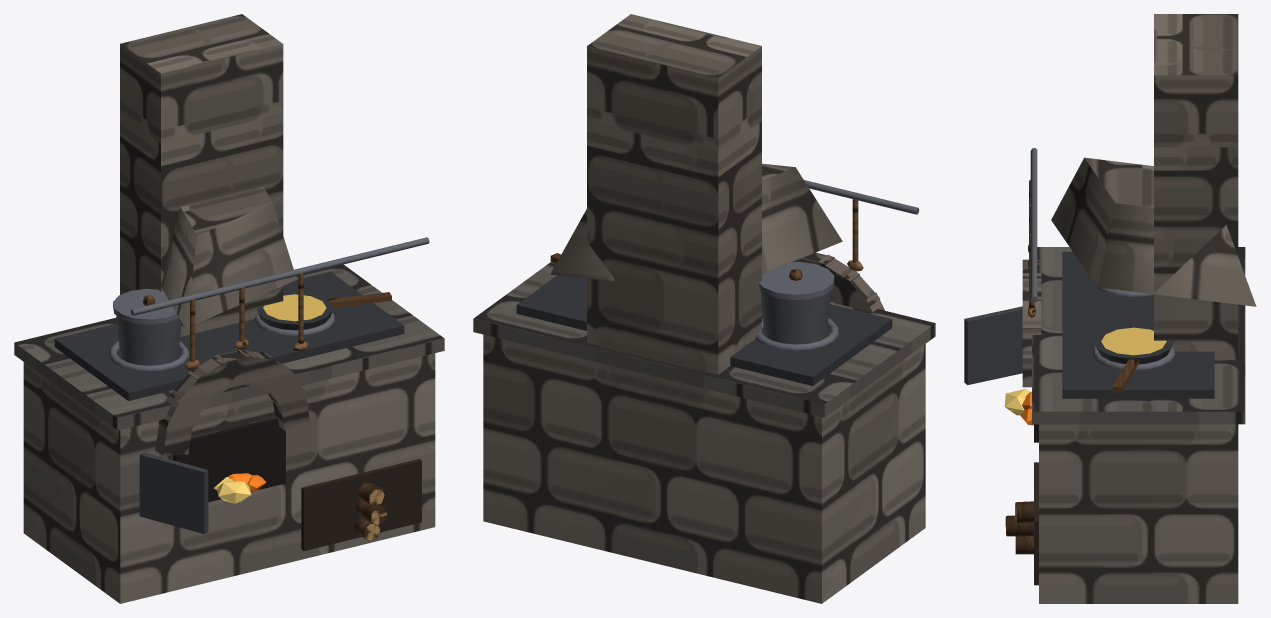
Rendered from herd.glb.
The picture shows the model from 3 angles, left to right: view 1: azimuth 30°, elevation 25°; view 2: azimuth 150°, elevation 25°; view 3: azimuth 270°, elevation 25°; orthographic projection. The views are drawn at different scales.
Parts seen in each view (by area): view 1: modell; view 2: modell; view 3: modell.
Part boxes in pixels (bbox=[...]): modell: bbox=[14, 14, 444, 603]; modell: bbox=[473, 14, 935, 603]; modell: bbox=[964, 14, 1256, 603].
Bounding box in the file's own units: 1.66 × 2.26 × 1.25.
6 materials, 3 textured.
